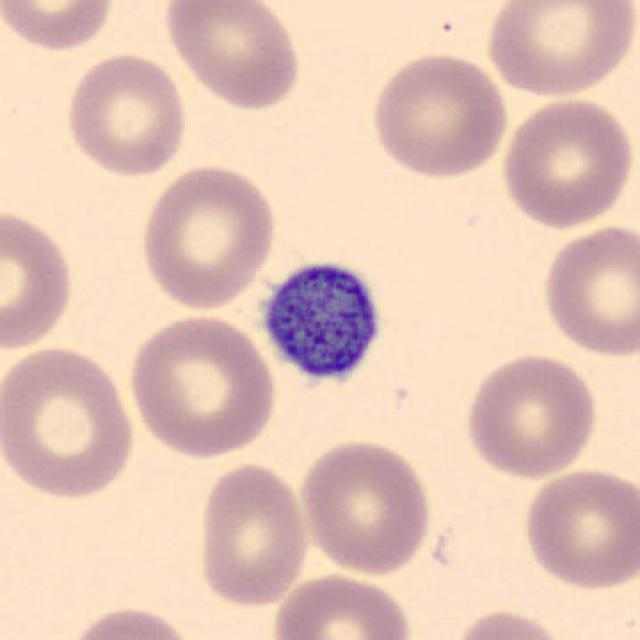Platelets: (250, 248, 394, 398)
RBC: (125, 310, 279, 460), (0, 340, 140, 502), (137, 161, 279, 312), (295, 436, 436, 578), (366, 48, 512, 180), (498, 93, 636, 231), (460, 349, 601, 481), (192, 458, 313, 610), (61, 49, 190, 178), (160, 0, 306, 113), (481, 0, 638, 100), (519, 464, 638, 592), (537, 220, 638, 360), (0, 205, 78, 352), (268, 569, 416, 640), (0, 0, 117, 53), (61, 603, 199, 640), (449, 606, 570, 640)
